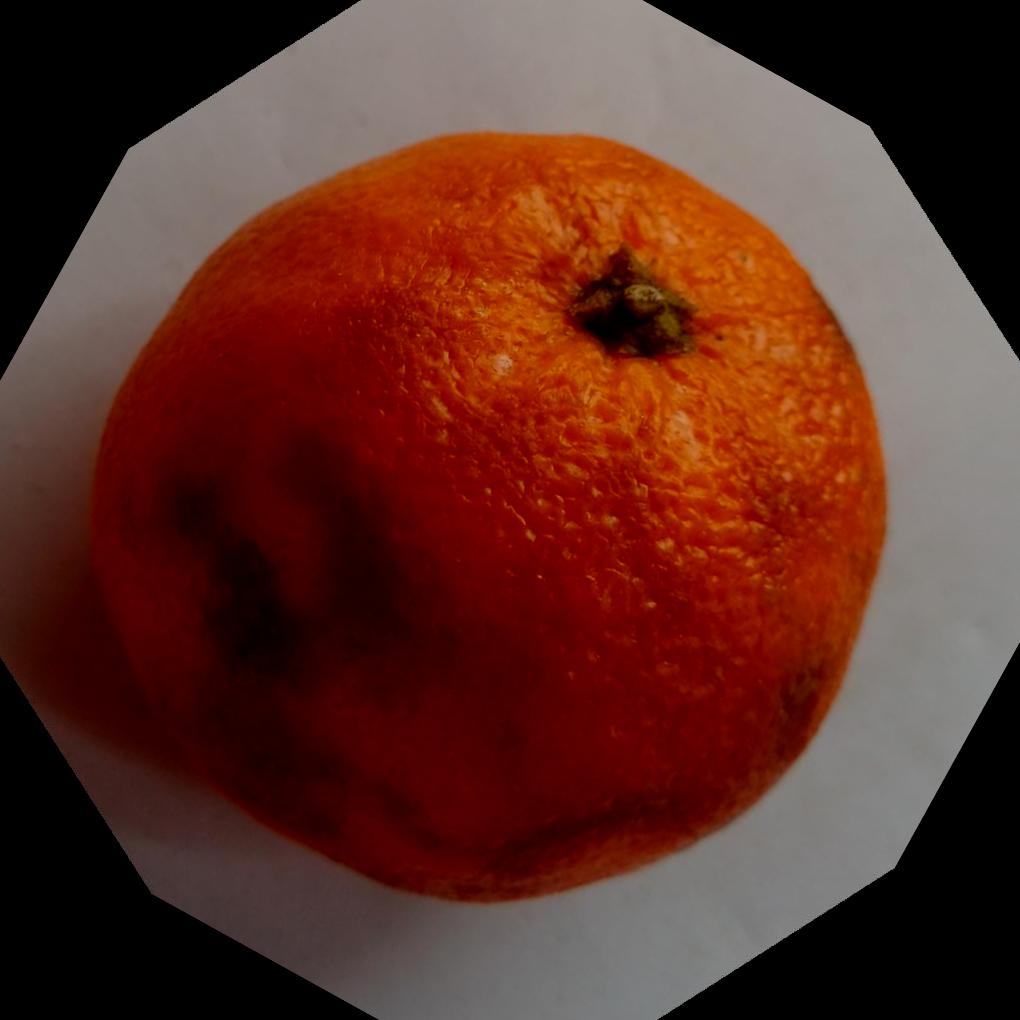FreshOrange: (85, 126, 888, 906)
